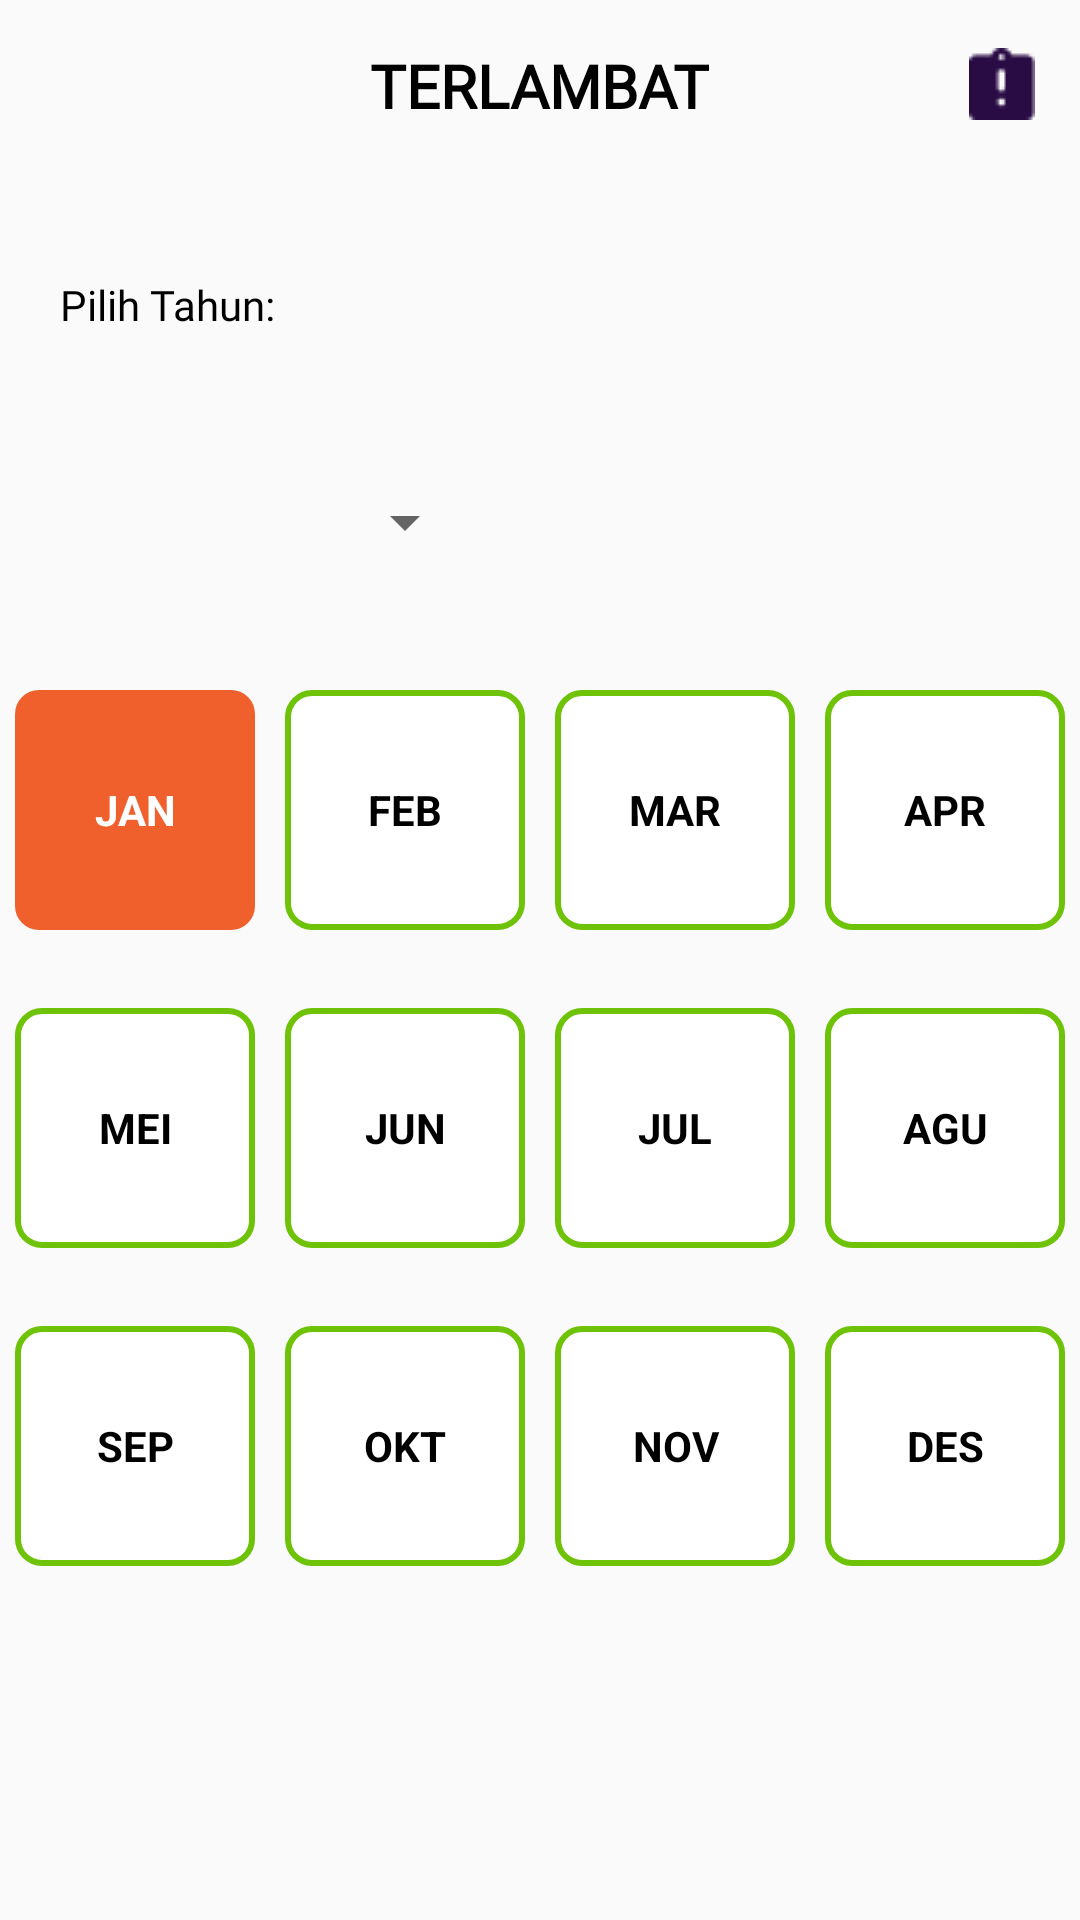

Icons on this 1080w x 1920h Android screen, each with its box as (x1, y1, x2, y2):
terlambat: (969, 48, 1035, 120)
